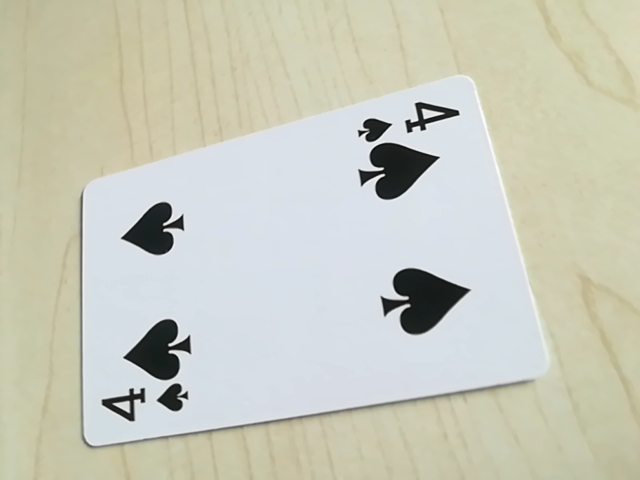ht 4: (96, 375, 195, 435), (350, 97, 466, 143)
